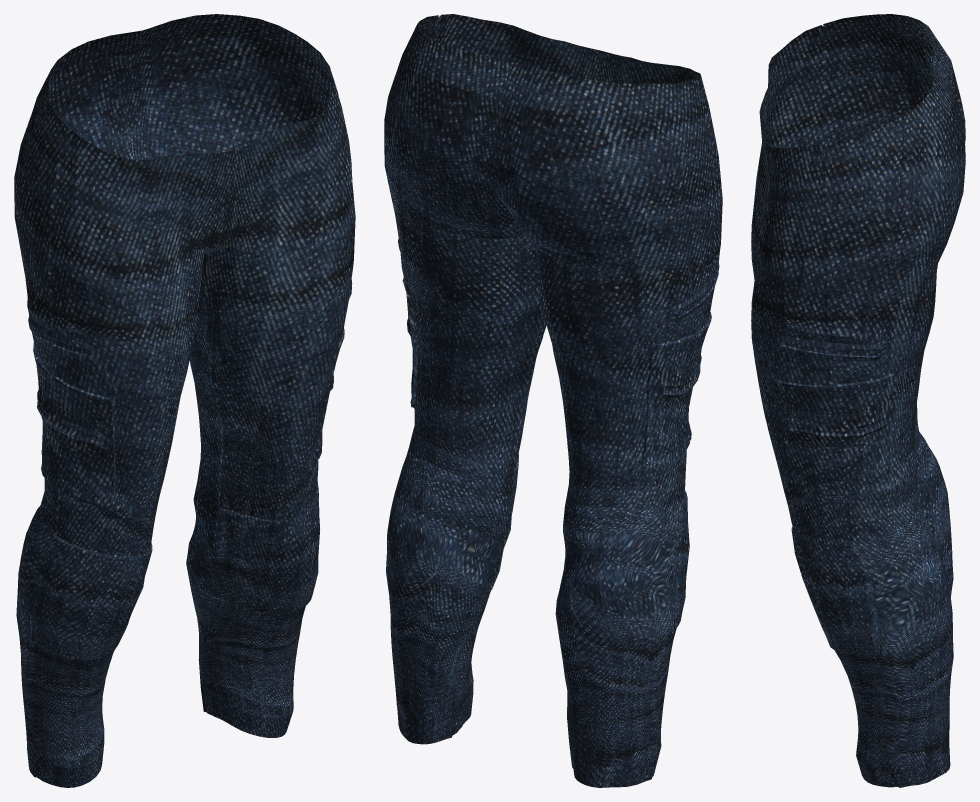
The model's file is jeans2.OBJ.
The picture shows the model from 3 angles, left to right: view 1: azimuth 30°, elevation 25°; view 2: azimuth 150°, elevation 25°; view 3: azimuth 270°, elevation 25°; orthographic projection. The views are drawn at different scales.
Parts seen in each view (by area): view 1: polySurface7 Mesh; view 2: polySurface7 Mesh; view 3: polySurface7 Mesh.
Part boxes in pixels (x1=…): polySurface7 Mesh: x1=14, y1=14, x2=355, y2=787; polySurface7 Mesh: x1=384, y1=14, x2=722, y2=787; polySurface7 Mesh: x1=751, y1=14, x2=965, y2=787.
Bounding box in the file's own units: 7.23 × 16.32 × 4.71.
